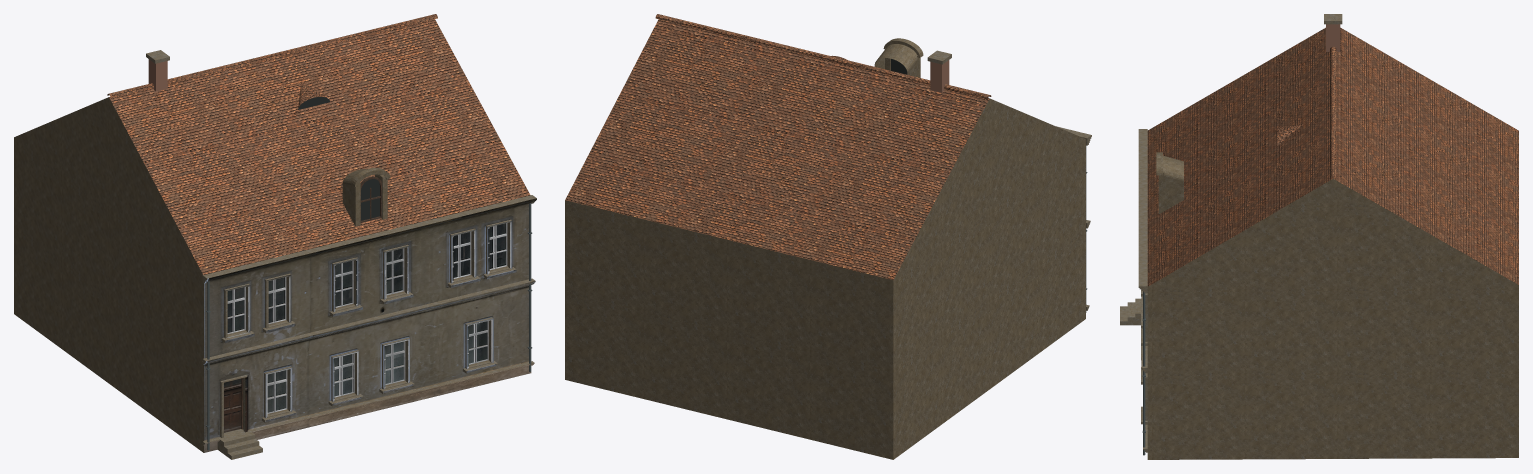
The picture shows the model from 3 angles, left to right: view 1: azimuth 30°, elevation 25°; view 2: azimuth 150°, elevation 25°; view 3: azimuth 270°, elevation 25°; orthographic projection. The views are drawn at different scales.
Visible parts, largest first — view 1: CP_261_Roof, CP_261_Masonry_With_Openings, CP_261_Frames_Sills_And_Cornices, CP_261_Individual_Photographic_Panes, CP_261_Timber_Frames, CP_261_Roof_Dormers, CP_261_Metal_Gutters_And_Downpipes, CP_261_Entrance_Three_Steps_PROVISIONAL, CP_261_Glazing_And_Doors, CP_261_Chimney, CP_261_Dormer_Glass; view 2: CP_261_Masonry_With_Openings, CP_261_Roof, CP_261_Roof_Dormers, CP_261_Chimney; view 3: CP_261_Roof, CP_261_Masonry_With_Openings, CP_261_Frames_Sills_And_Cornices, CP_261_Roof_Dormers, CP_261_Chimney, CP_261_Entrance_Three_Steps_PROVISIONAL, CP_261_Metal_Gutters_And_Downpipes.
Part boxes in pixels (x1,y1,x2,y2): CP_261_Roof: (14,14,530,275); CP_261_Masonry_With_Openings: (14,137,531,452); CP_261_Frames_Sills_And_Cornices: (202,195,536,445); CP_261_Individual_Photographic_Panes: (227,223,505,412); CP_261_Timber_Frames: (227,223,507,429); CP_261_Roof_Dormers: (342,168,390,226); CP_261_Metal_Gutters_And_Downpipes: (206,200,534,450); CP_261_Entrance_Three_Steps_PROVISIONAL: (217,429,262,459); CP_261_Glazing_And_Doors: (224,378,241,432); CP_261_Chimney: (146,50,169,91); CP_261_Dormer_Glass: (361,179,379,220); CP_261_Masonry_With_Openings: (565,139,1085,459); CP_261_Roof: (565,14,1085,280); CP_261_Roof_Dormers: (874,38,923,77); CP_261_Chimney: (927,50,951,92); CP_261_Roof: (1147,27,1518,286); CP_261_Masonry_With_Openings: (1147,285,1518,459); CP_261_Frames_Sills_And_Cornices: (1138,129,1147,452); CP_261_Roof_Dormers: (1156,152,1183,213); CP_261_Chimney: (1324,14,1342,51); CP_261_Entrance_Three_Steps_PROVISIONAL: (1120,298,1141,325); CP_261_Metal_Gutters_And_Downpipes: (1142,291,1145,455).
Bounding box in the file's own units: 13.85 × 12.7 × 14.82.
Materials: 11 (8 with a texture image).
